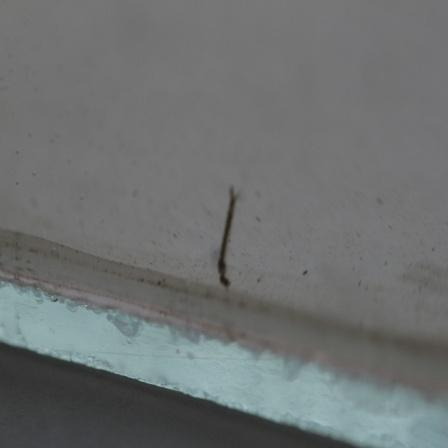Jentik-Nyamuk: (212, 182, 244, 292)
